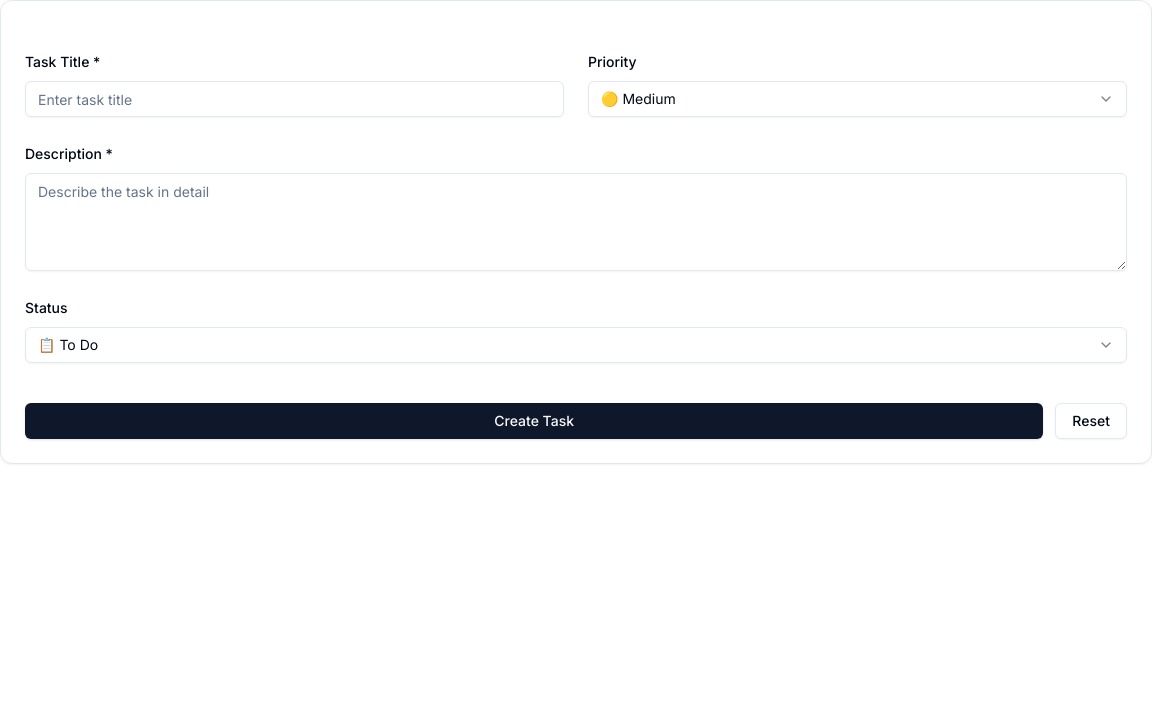
Scenario: TaskForm Component › Form Validation › menampilkan error saat title kosong
Click the button "Create Task": (534,421) [25,403,1043,439]
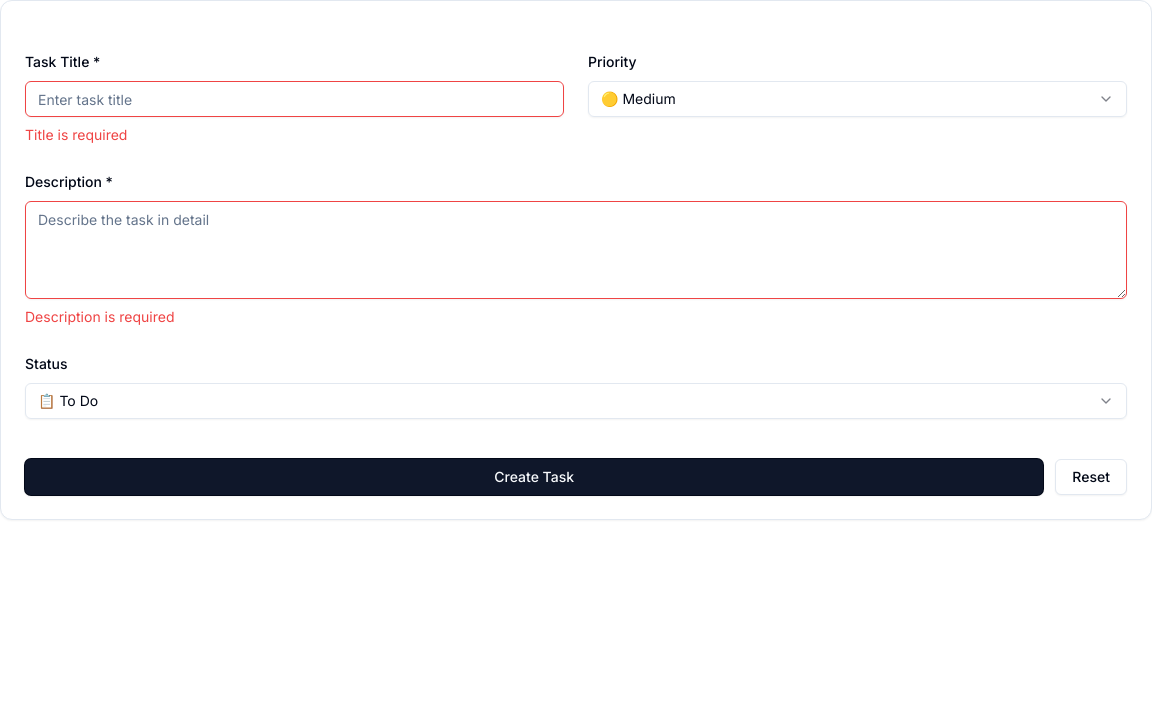
Expected: the text "Title is required" is shown, [25,126,127,143]
